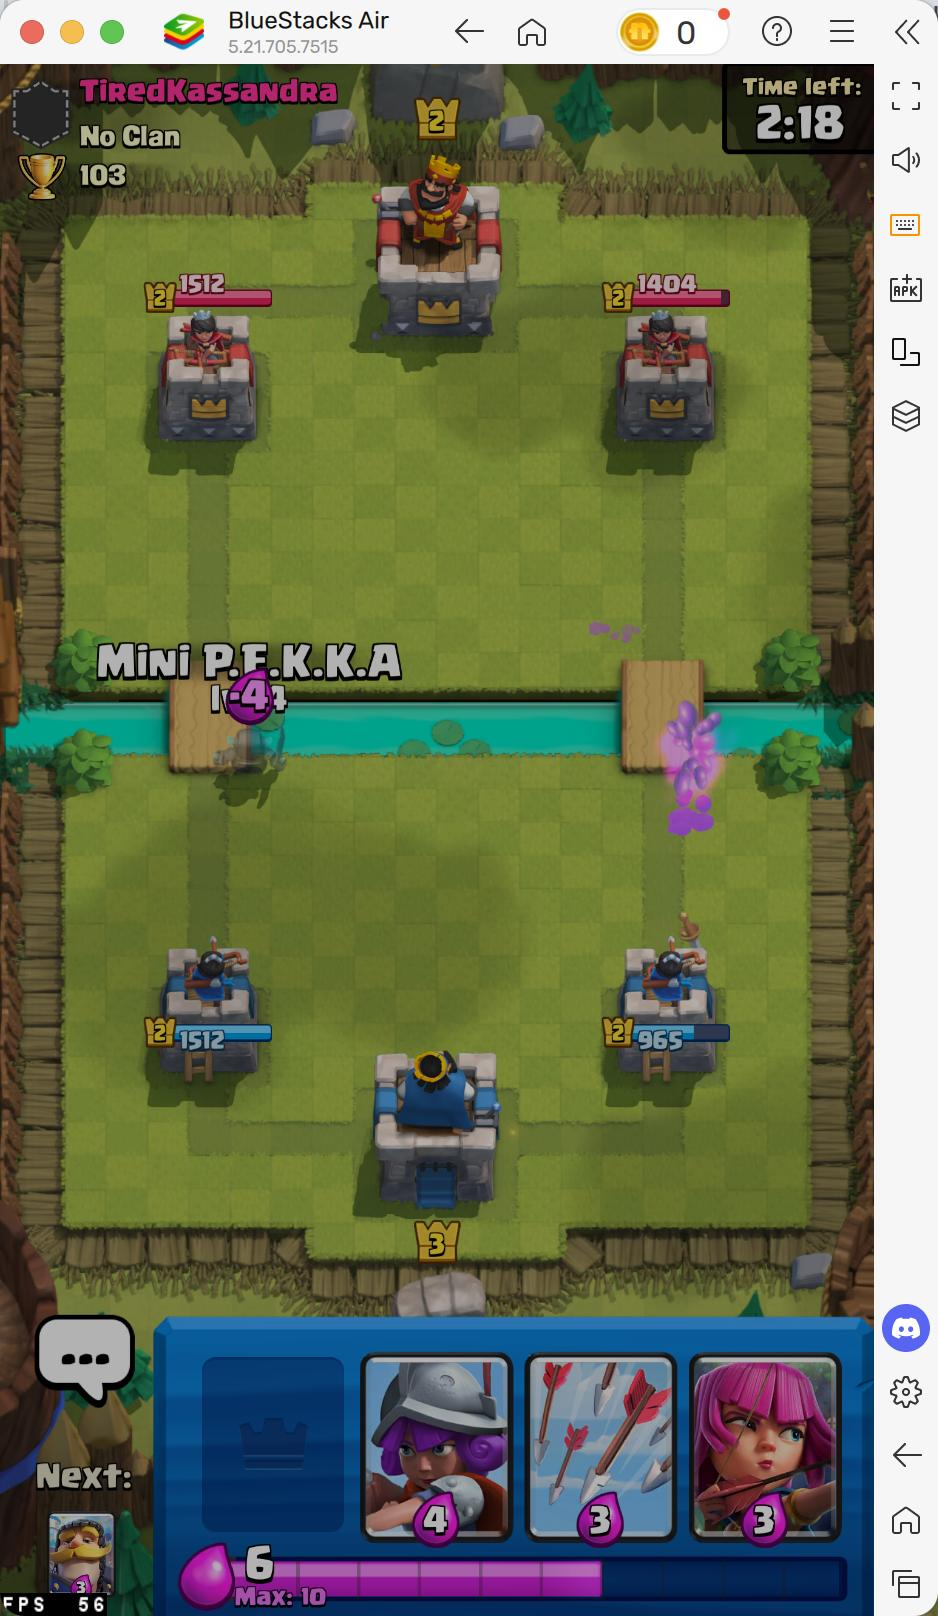0: (662, 272, 682, 295)
1: (796, 103, 813, 142), (200, 1028, 213, 1052), (178, 1028, 190, 1052), (635, 270, 648, 295), (178, 272, 190, 295), (201, 272, 212, 295)
2: (755, 102, 783, 142), (209, 1029, 227, 1052), (210, 271, 227, 295)
3: (750, 1502, 777, 1539), (587, 1501, 613, 1539), (73, 1578, 87, 1597)
4: (421, 1501, 451, 1539), (679, 270, 699, 296), (645, 271, 664, 295)
5: (186, 1029, 204, 1054), (667, 1029, 685, 1052), (188, 272, 204, 296)
7: (243, 1542, 278, 1585), (651, 1028, 670, 1052)
9: (635, 1029, 653, 1052)
Enemy Tower: (611, 310, 719, 444), (153, 311, 260, 443), (814, 102, 844, 142)
Friendly Tower: (614, 943, 719, 1077), (156, 943, 260, 1076)
